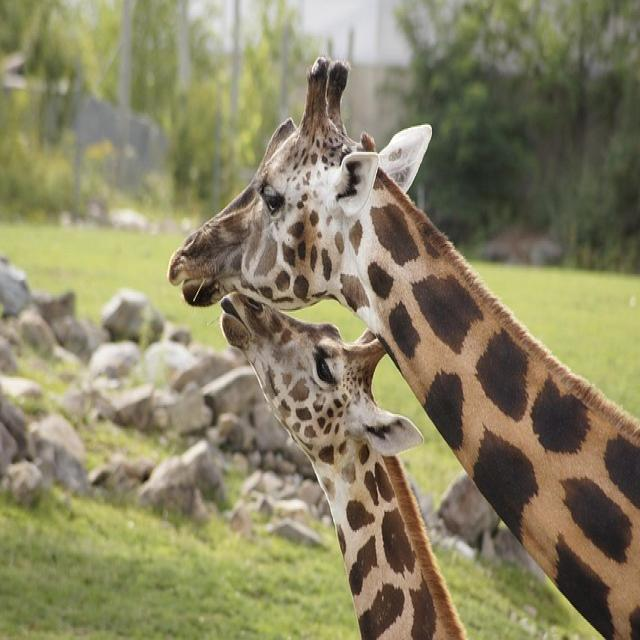Herbivorous: (168, 62, 640, 640), (219, 292, 467, 640)
